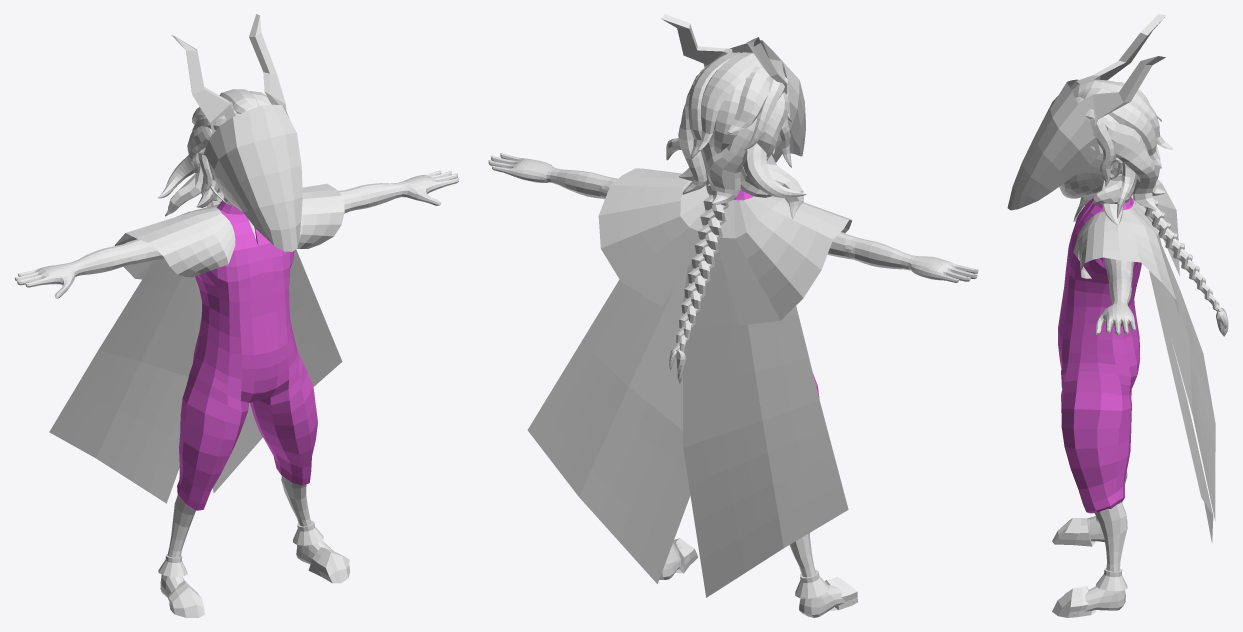
File: Witch_rescale_0.03.fbx
The picture shows the model from 3 angles, left to right: view 1: azimuth 30°, elevation 25°; view 2: azimuth 150°, elevation 25°; view 3: azimuth 270°, elevation 25°; orthographic projection. The views are drawn at different scales.
Visible parts, largest first — view 1: combez, coat, mask1, body_new_2, coat_shoulders, hair, horn, boots, bahroma_boots; view 2: coat, coat_shoulders, hair, body_new_2, horn, mask1, boots, bahroma_boots; view 3: combez, hair, coat, body_new_2, mask1, coat_shoulders, horn, boots, bahroma_boots.
Boxes of the visible parts, bbox=[...] form: combez: bbox=[177, 198, 317, 510]; coat: bbox=[49, 249, 342, 503]; mask1: bbox=[204, 104, 302, 251]; body_new_2: bbox=[14, 160, 459, 608]; coat_shoulders: bbox=[114, 183, 344, 279]; hair: bbox=[157, 89, 271, 216]; horn: bbox=[171, 14, 286, 134]; boots: bbox=[168, 547, 349, 617]; bahroma_boots: bbox=[158, 520, 323, 576]; coat: bbox=[527, 246, 848, 597]; coat_shoulders: bbox=[598, 168, 851, 325]; hair: bbox=[666, 52, 806, 383]; body_new_2: bbox=[488, 121, 978, 617]; horn: bbox=[661, 14, 787, 94]; mask1: bbox=[730, 40, 805, 156]; boots: bbox=[673, 538, 858, 610]; bahroma_boots: bbox=[665, 543, 828, 598]; combez: bbox=[1058, 194, 1141, 513]; hair: bbox=[1071, 79, 1228, 336]; coat: bbox=[1136, 204, 1215, 542]; body_new_2: bbox=[1059, 158, 1135, 615]; mask1: bbox=[1007, 79, 1100, 210]; coat_shoulders: bbox=[1073, 179, 1179, 314]; horn: bbox=[1076, 14, 1165, 127]; boots: bbox=[1052, 518, 1095, 617]; bahroma_boots: bbox=[1095, 516, 1127, 591].
Size of the model in its own units: 151 by 175 by 64.8.
